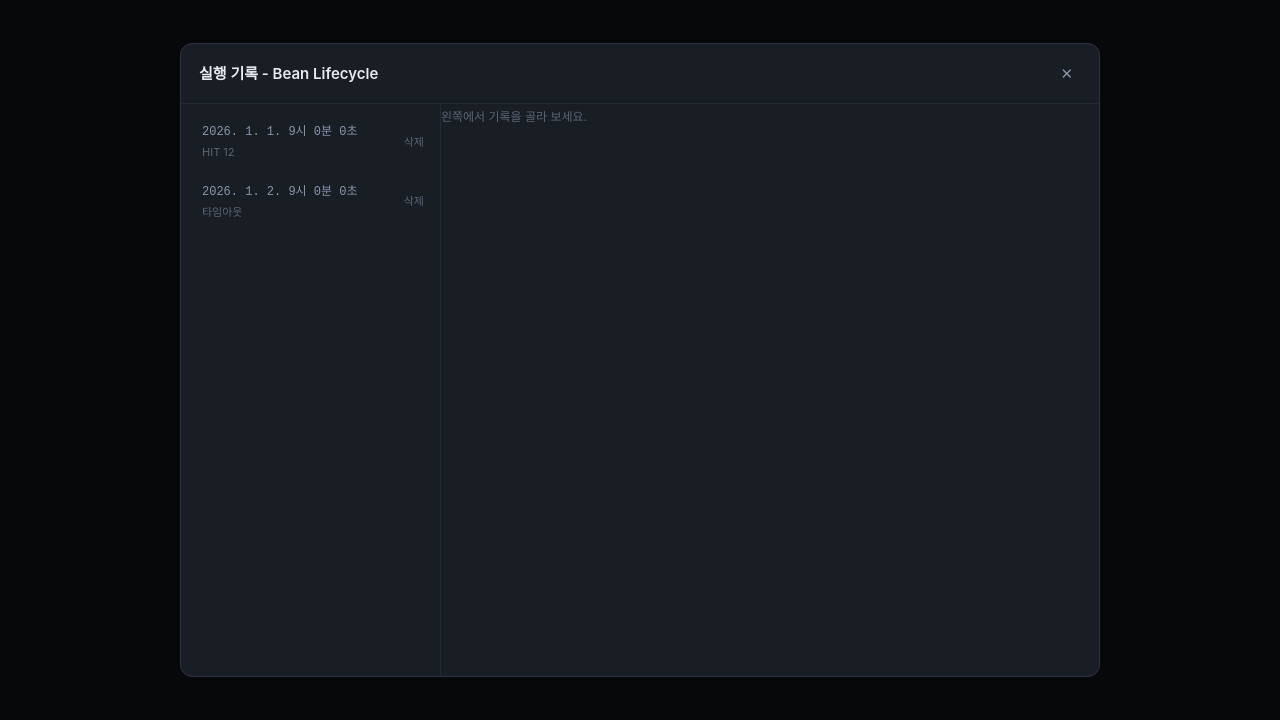
Test: RunHistoryModal › loads and renders the detail of a selected run
Click the text "HIT 12" at (218, 152), box [202, 144, 234, 161]
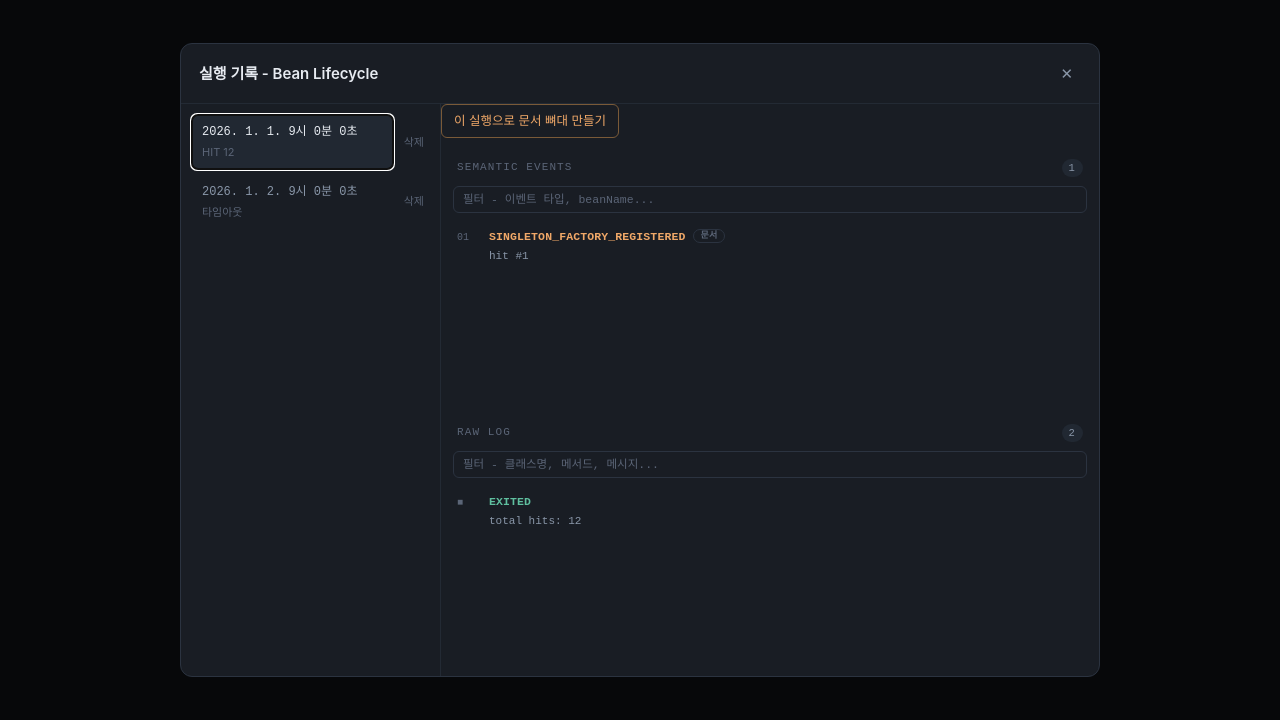
Expected: the text "SINGLETON_FACTORY_REGISTERED" is shown, [489, 230, 686, 243]
Expected: the text "EXITED" is shown, [489, 495, 531, 508]
